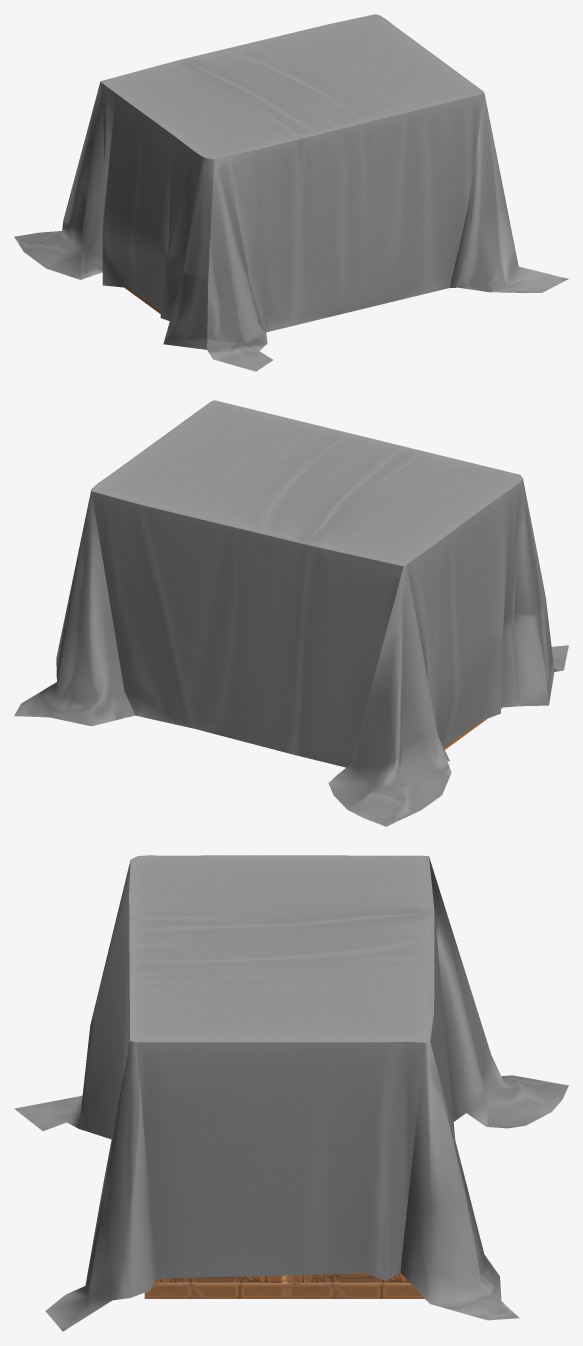
File: Pfb_Box_GRP__4.fbx
The picture shows the model from 3 angles, top to bottom: view 1: azimuth 30°, elevation 25°; view 2: azimuth 150°, elevation 25°; view 3: azimuth 270°, elevation 25°; orthographic projection. The views are drawn at different scales.
Parts seen in each view (by area): view 1: MAT_Canvas_01_Grey; view 2: MAT_Canvas_01_Grey; view 3: MAT_Canvas_01_Grey, Mat_WoodBox_01_1.
Boxes of the visible parts, x1,y1,x2,y2 form: MAT_Canvas_01_Grey: (14,14,568,371); MAT_Canvas_01_Grey: (14,400,568,826); MAT_Canvas_01_Grey: (14,855,568,1331); Mat_WoodBox_01_1: (144,1272,424,1298).
Size of the model in its own units: 3.25 by 1.53 by 2.98.
2 materials, 2 textured.
